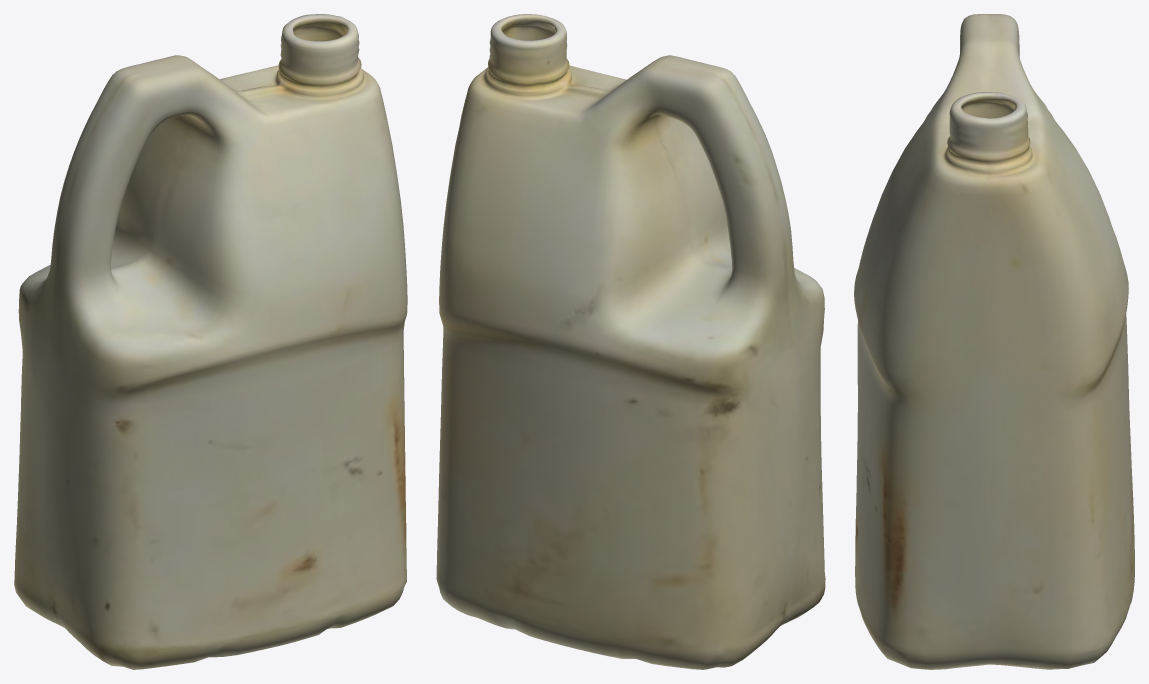
The model's file is plastic_bottle_gallon.glb.
3 views of the same model, side by side, from view 1: azimuth 30°, elevation 25°; view 2: azimuth 150°, elevation 25°; view 3: azimuth 270°, elevation 25° (orthographic).
Visible parts, largest first — view 1: plastic_bottle_gallon; view 2: plastic_bottle_gallon; view 3: plastic_bottle_gallon.
Boxes of the visible parts, <box> form: plastic_bottle_gallon: <box>14,14,407,669</box>; plastic_bottle_gallon: <box>436,14,825,669</box>; plastic_bottle_gallon: <box>854,14,1134,669</box>.
Bounding box in the file's own units: 0.1663 × 0.2745 × 0.1263.
Materials: 1 (1 with a texture image).
